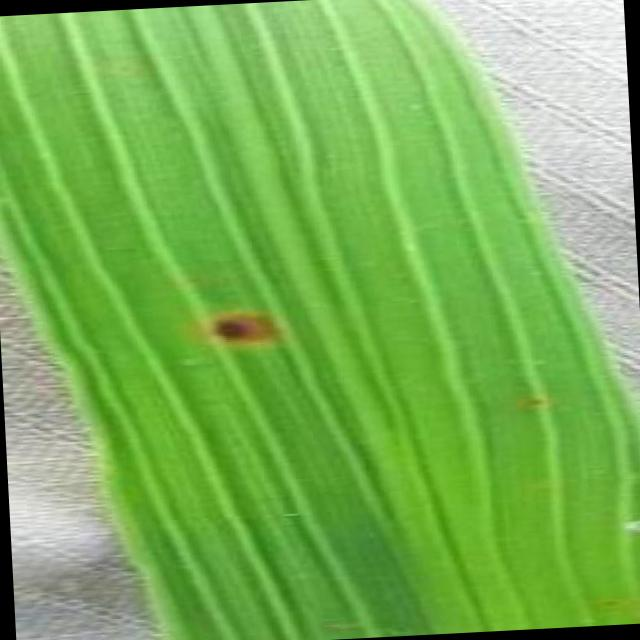Rice_Brownspot: (190, 294, 298, 354), (590, 590, 626, 612), (524, 389, 550, 412)
